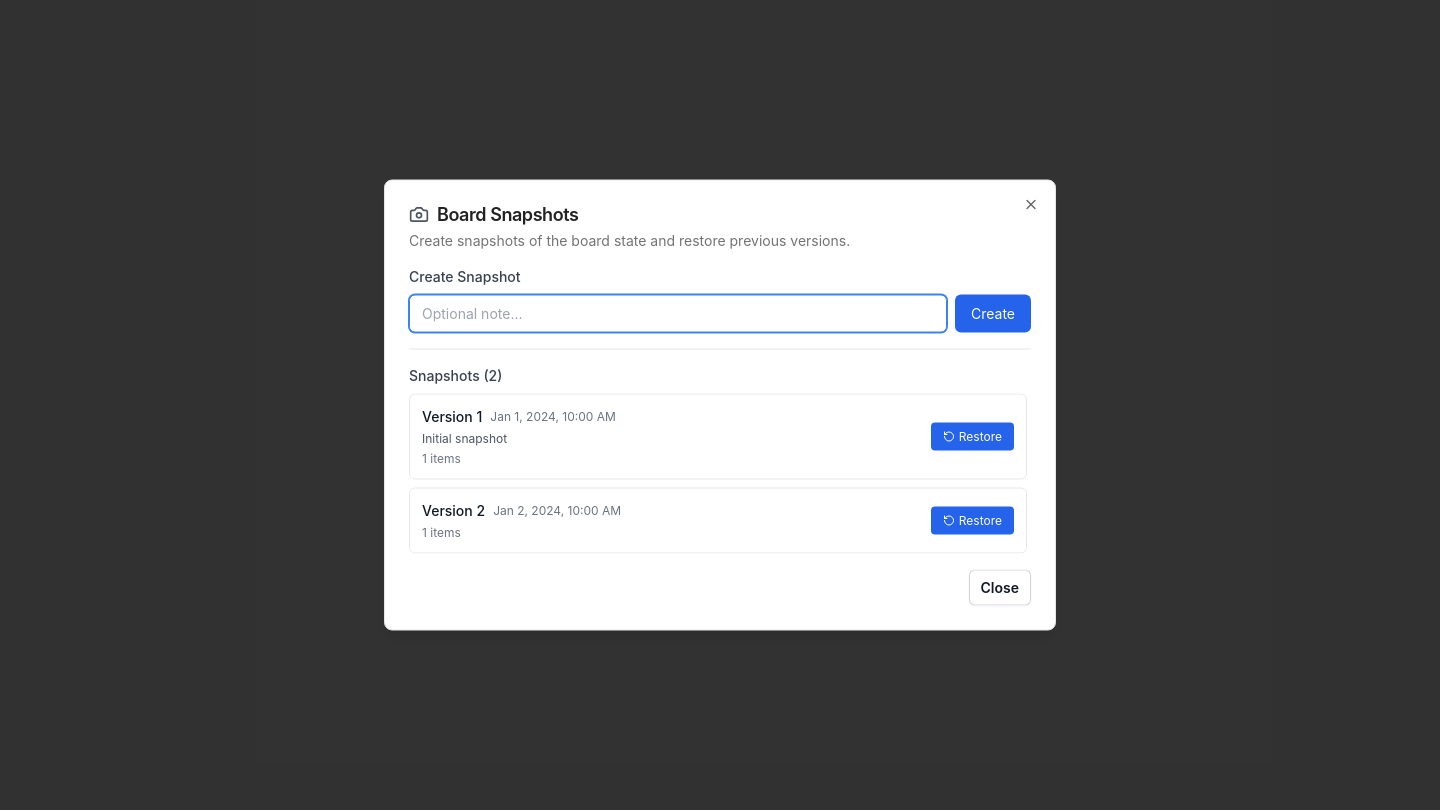
Test: BoardSnapshotsModal Component › Restoring Snapshots › cancels restore confirmation
Expected: the text "Version 1" is shown, [422,406,482,426]
Click the button "Restore" in the row of "Initial snapshot".
click(972, 436)  # box [931,422,1014,450]
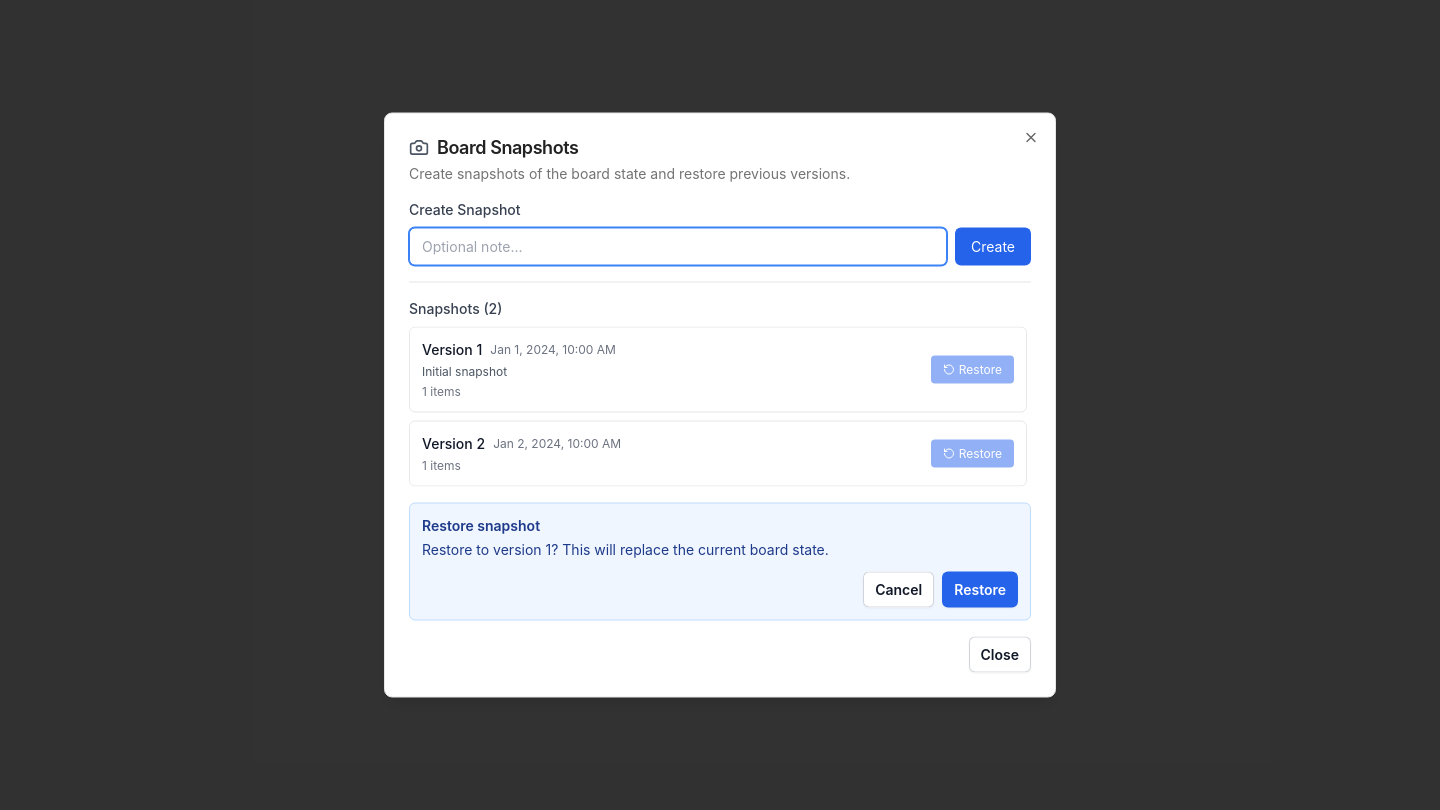
Expected: the text "Restore snapshot" is shown, [422,516,540,534]
Click the button "Cancel".
click(899, 590)  # box [863,572,934,608]
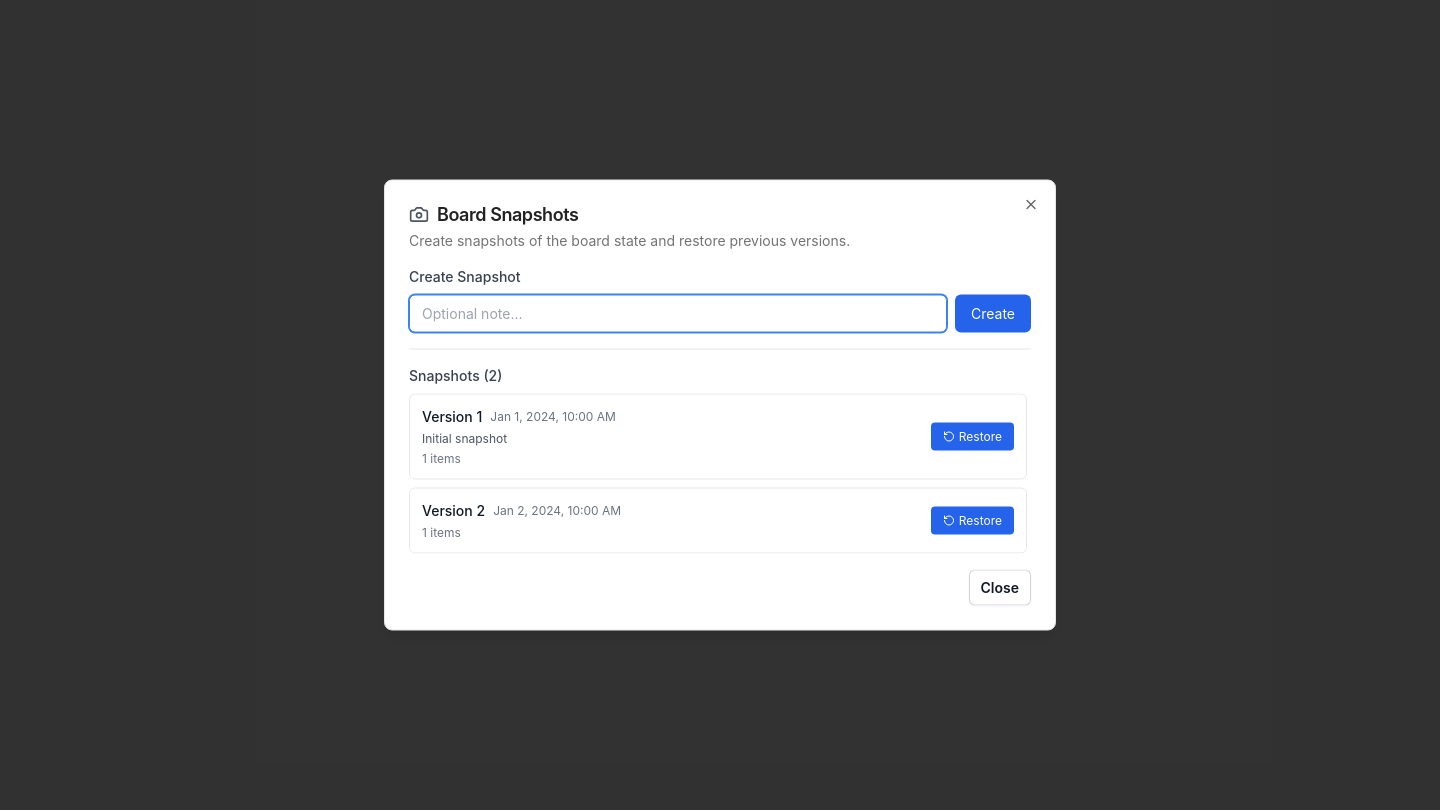
Expected: the text "Restore snapshot" is gone
